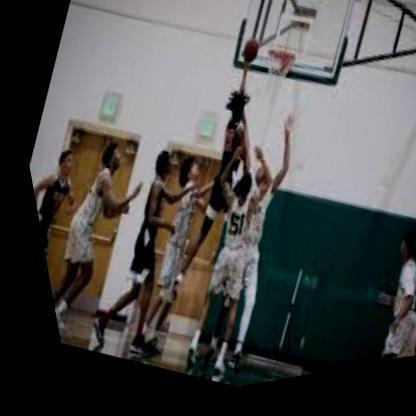basketball: (233, 43, 260, 75)
rim: (258, 50, 294, 79)
